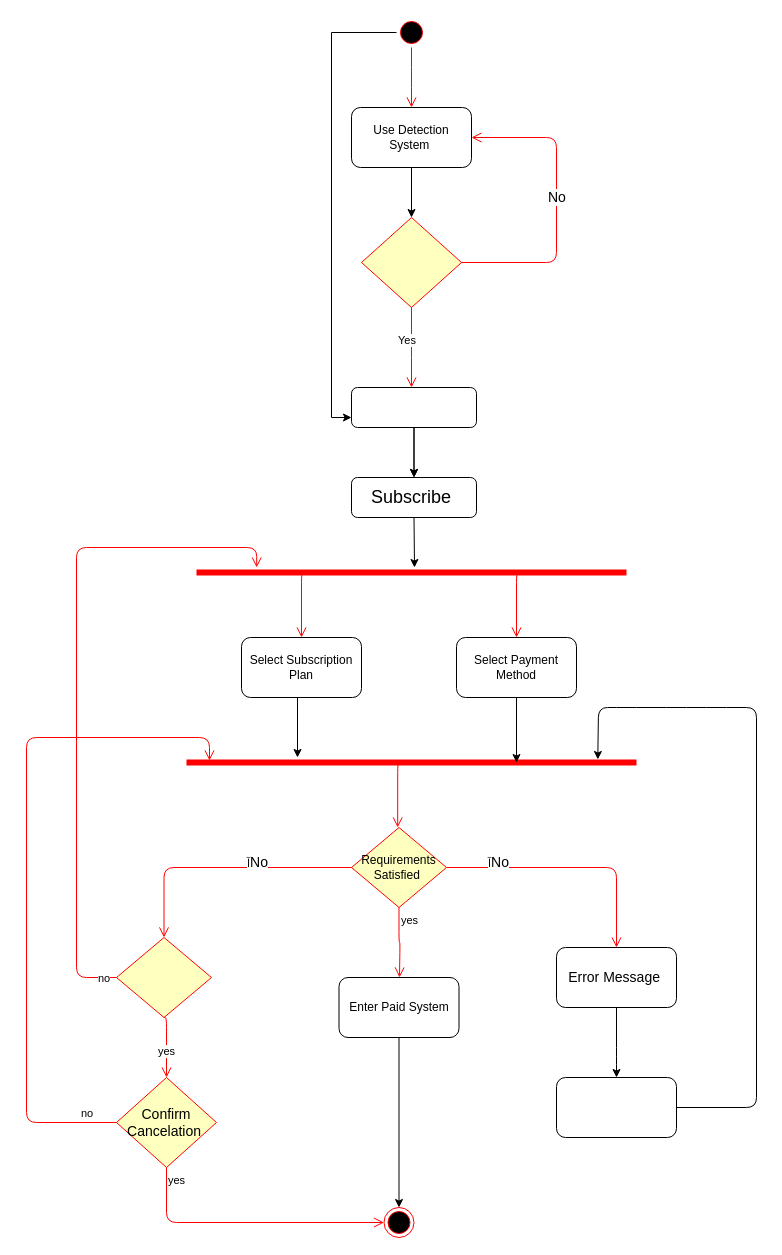
This 782x1255 diagram has some shape labels left out. Here are the shapes that lost their labels. From the top down, the centre of each, then its label:
At point 411,262: "Reach Limit of Free Use".
At point 413,407: "Sign in / up".
At point 164,977: "Cancel Plan?".
At point 616,1107: "Clear Fields".
